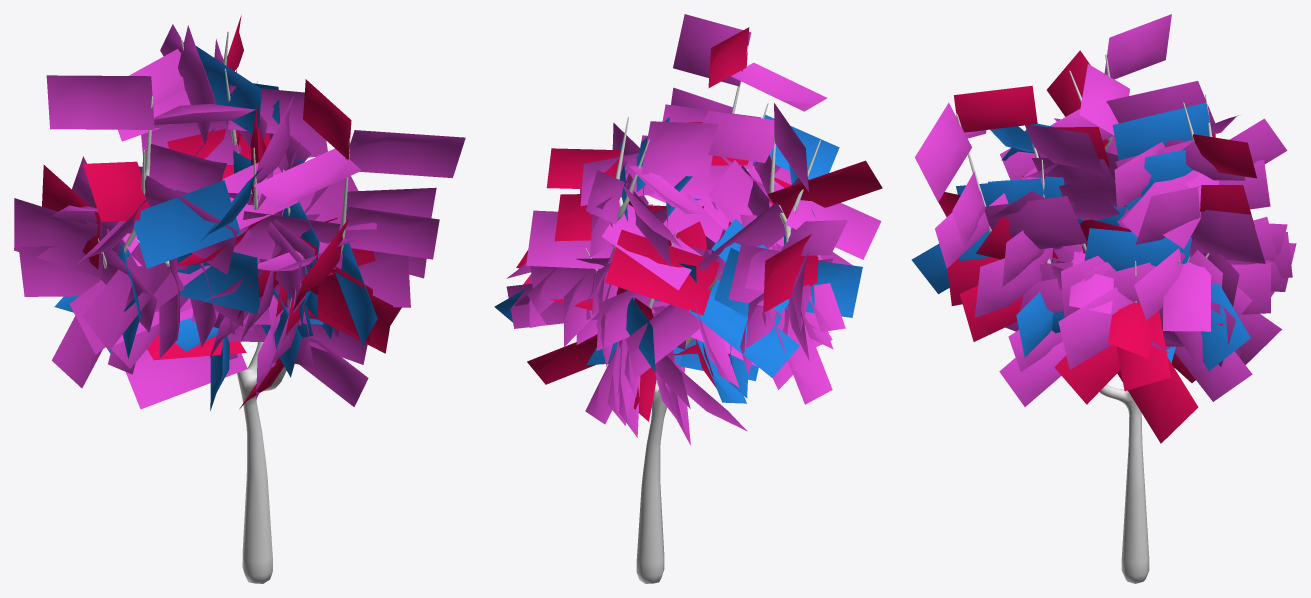
Rendered from Boom4.fbx.
The picture shows the model from 3 angles, left to right: view 1: azimuth 30°, elevation 25°; view 2: azimuth 150°, elevation 25°; view 3: azimuth 270°, elevation 25°; orthographic projection. The views are drawn at different scales.
Visible parts, largest first — view 1: Plane.001; view 2: Plane.001; view 3: Plane.001.
Part boxes in pixels (left/top/right/bottom): Plane.001: left=14, top=15, right=465, bottom=583; Plane.001: left=494, top=14, right=882, bottom=583; Plane.001: left=911, top=14, right=1296, bottom=583.
Bounding box in the file's own units: 2434 × 3662 × 2591.
